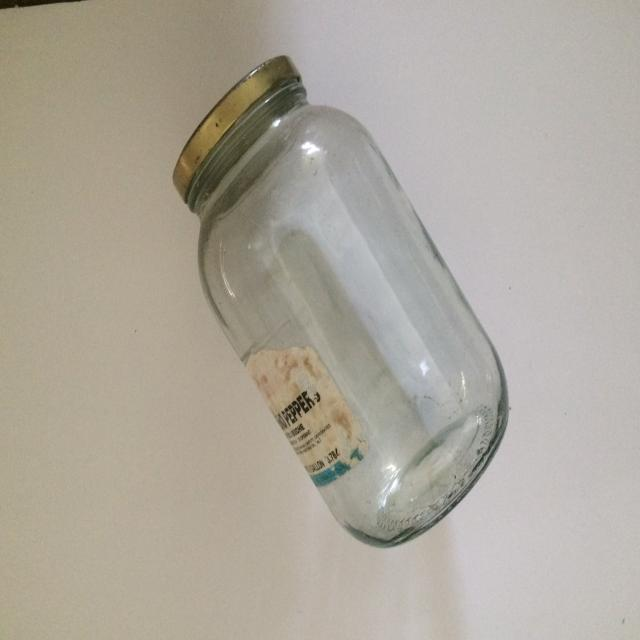glass: (172, 54, 510, 548)
